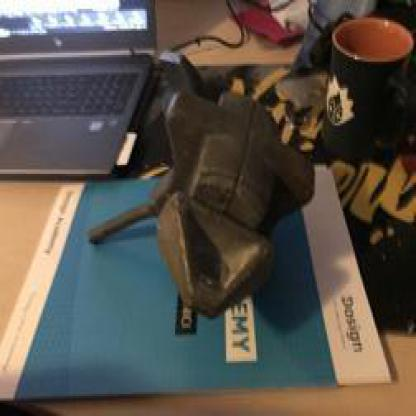Twistlock: (74, 69, 325, 332)
